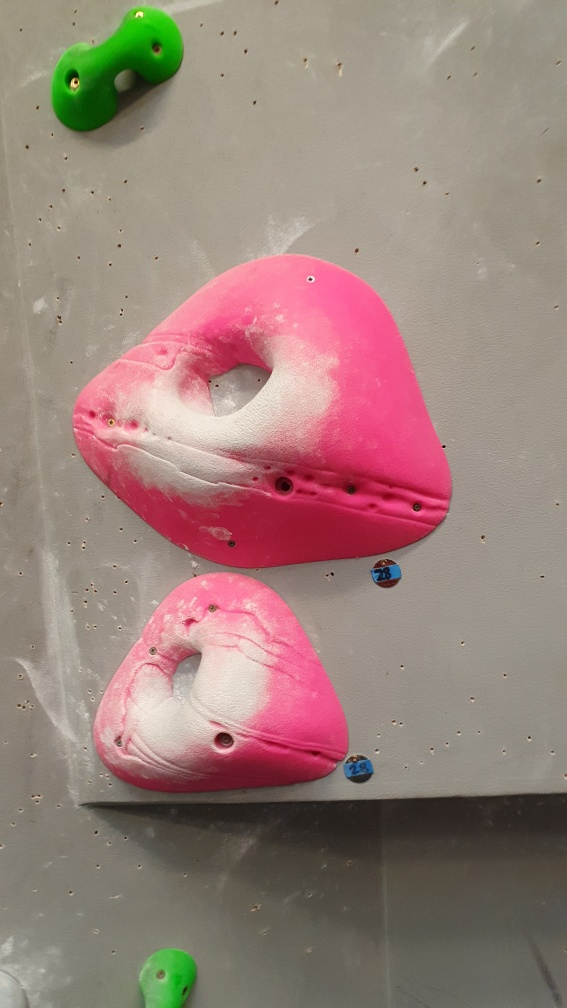Hand Start: (366, 555, 411, 596), (343, 747, 383, 790)
Pocket: (68, 252, 456, 574), (86, 572, 355, 797)
